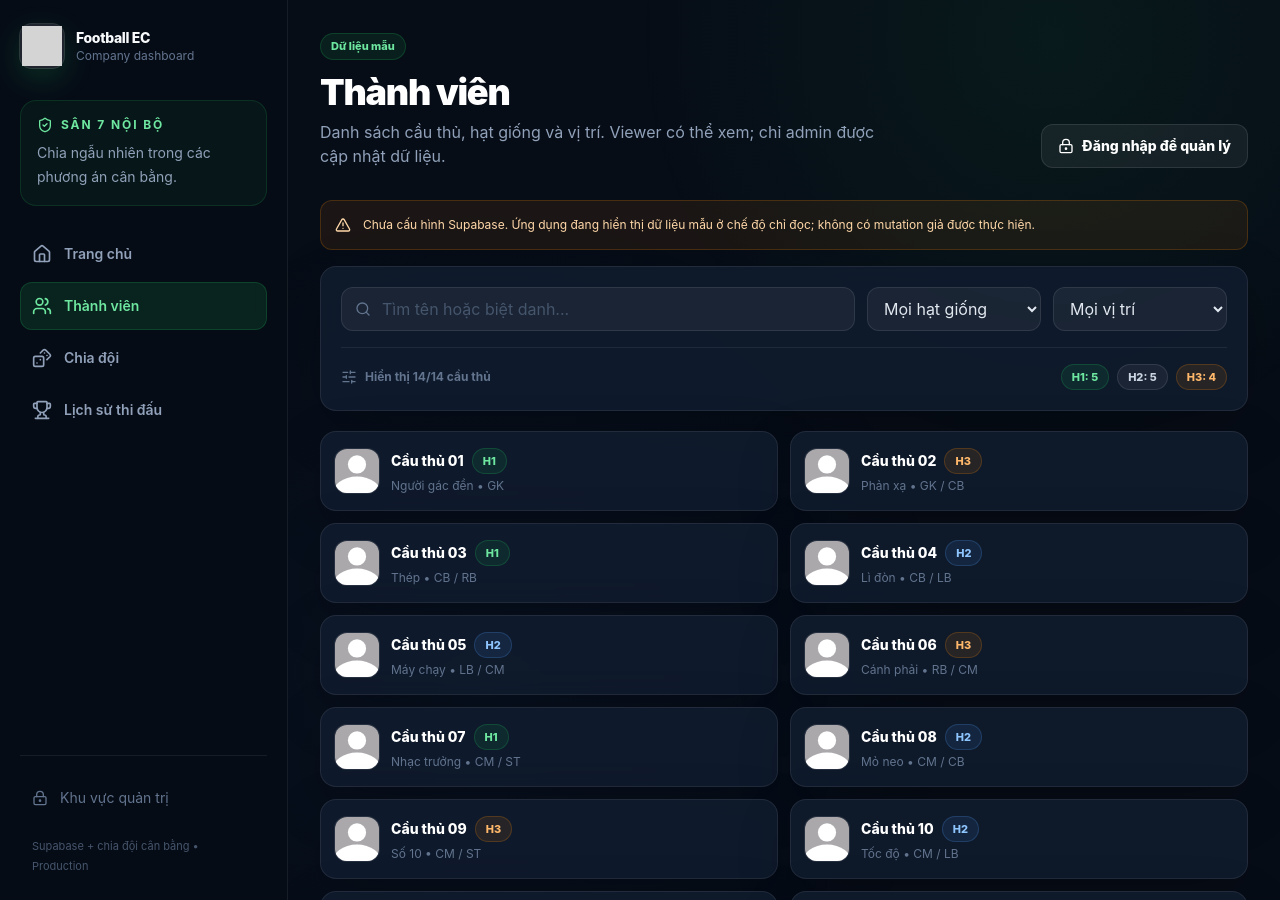
Test: App › lọc danh sách cầu thủ mẫu theo từ khóa
Type "Cầu thủ 14" into the search field labelled "Tìm tên hoặc biệt danh" at (598, 308), box [341,286,855,330]
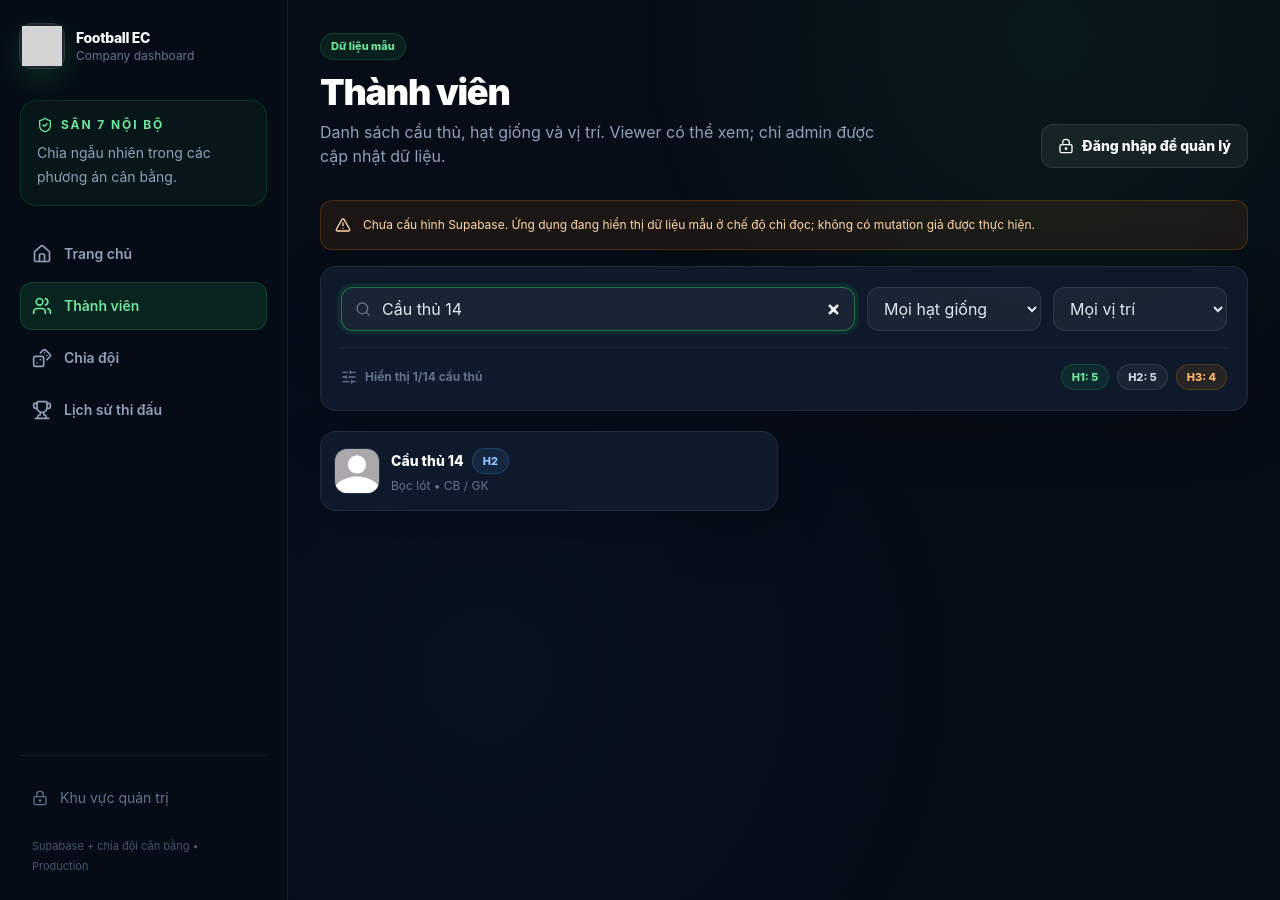
Check: the text "Cầu thủ 14" is shown, box [391,451,464,471]
Check: the text "Cầu thủ 01" is gone
